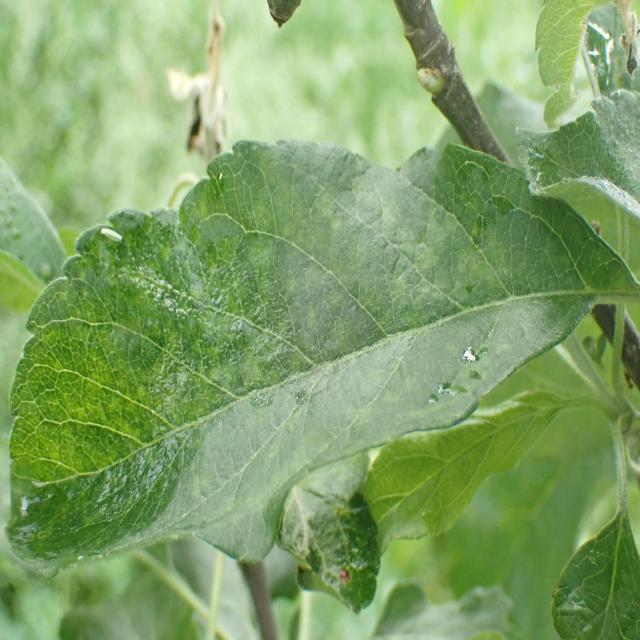scab: (11, 169, 562, 478)
